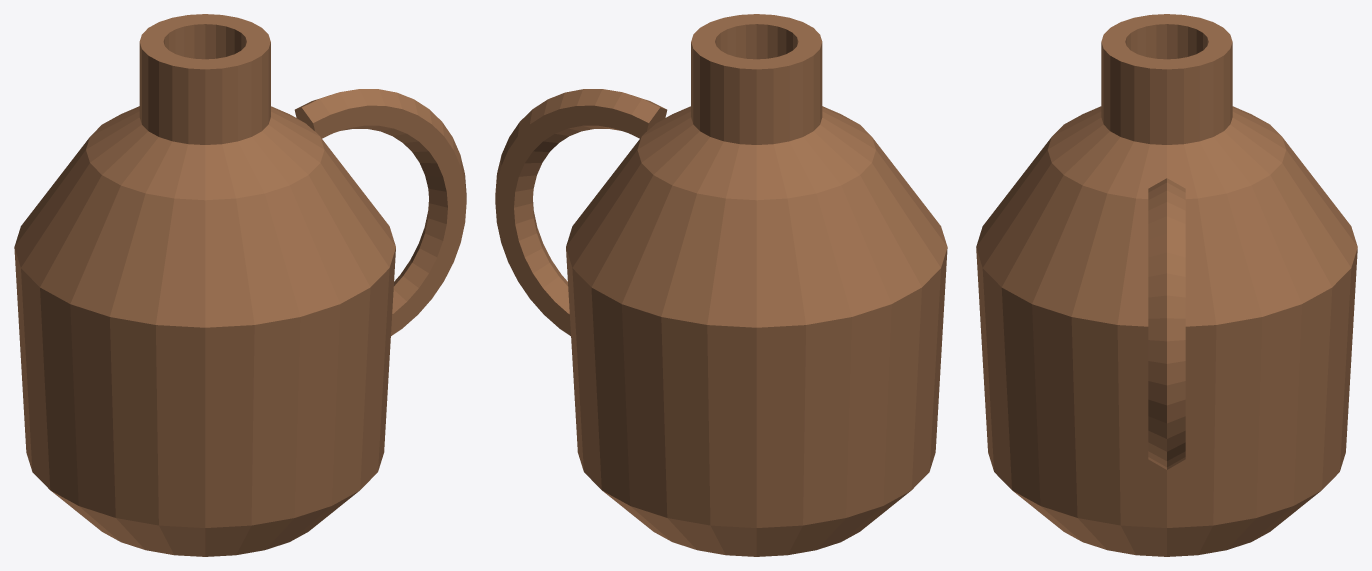
Rendered from spirit_flask.glb.
The picture shows the model from 3 angles, left to right: view 1: azimuth 30°, elevation 25°; view 2: azimuth 150°, elevation 25°; view 3: azimuth 270°, elevation 25°; orthographic projection.
Parts seen in each view (by area): view 1: spirit_flask • handled field vessel.001; view 2: spirit_flask • handled field vessel.001; view 3: spirit_flask • handled field vessel.001.
Part boxes in pixels (left/top/right/bottom): spirit_flask • handled field vessel.001: left=14, top=14, right=466, bottom=556; spirit_flask • handled field vessel.001: left=495, top=14, right=947, bottom=556; spirit_flask • handled field vessel.001: left=976, top=14, right=1357, bottom=556.
Bounding box in the file's own units: 0.413 × 0.43 × 0.32.
